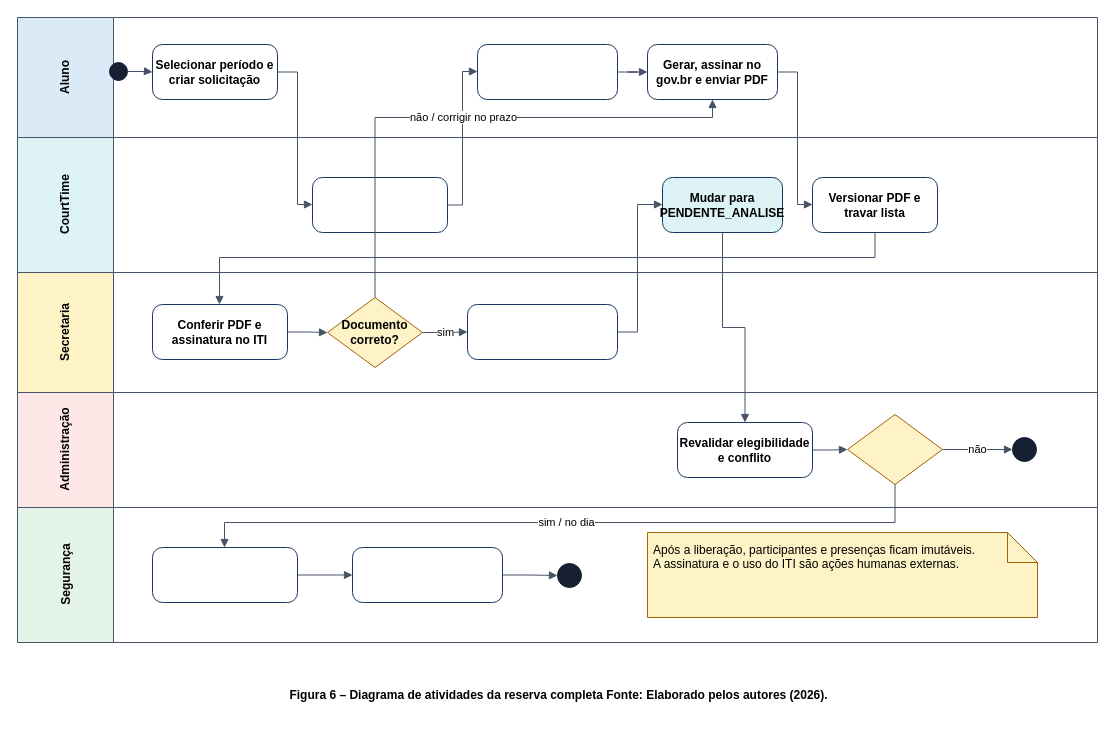
Some shapes in this 1115 by 734 pixel diagram are drawn without their labels. The shapes that lost their labels are listed below. From the top down, each one's centre as x and y in pixels, then its label:
the point at 547,72: Cadastrar ao menos 10 participantes
the point at 380,204: Validar antecedência, grade e disponibilidade
the point at 542,332: Registrar R$ 2,00 × participantes
the point at 894,449: Aprovar?
the point at 225,574: Registrar presença e pessoas adicionais
the point at 427,574: Liberar com 10 presentes e sem pendência
